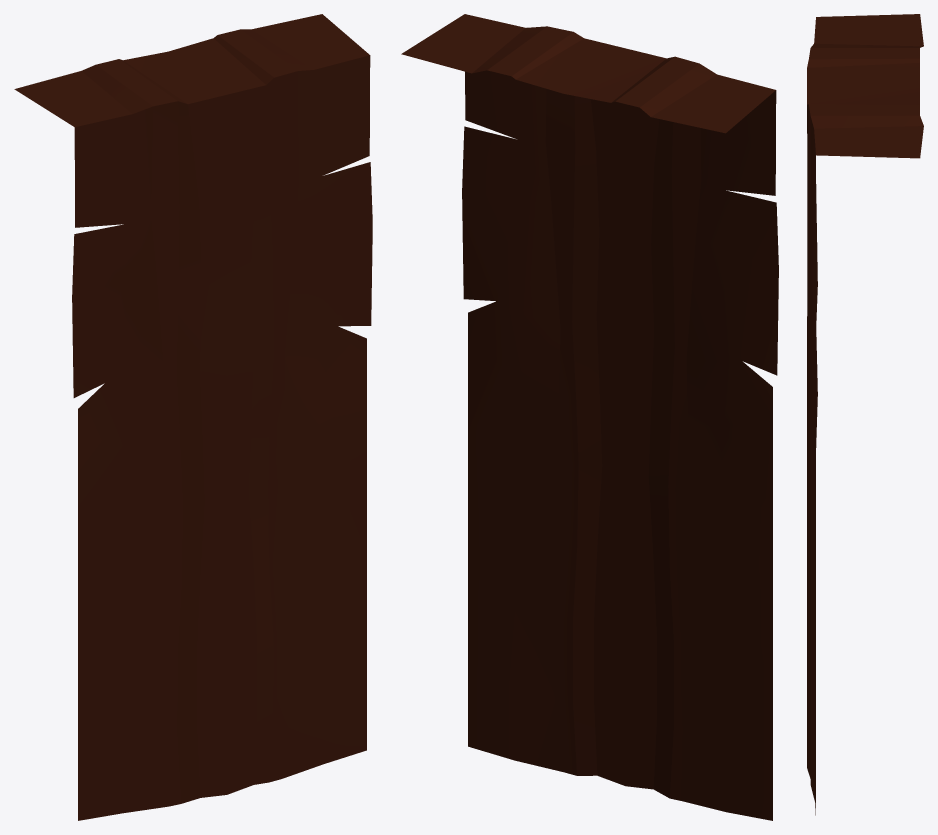
File: Flag_Wall.obj
3 renders of one model, left to right at view 1: azimuth 30°, elevation 25°; view 2: azimuth 150°, elevation 25°; view 3: azimuth 270°, elevation 25°, orthographic. The views are drawn at different scales.
Visible parts, largest first — view 1: Flag_Wall_Cylinder.001; view 2: Flag_Wall_Cylinder.001; view 3: Flag_Wall_Cylinder.001.
Part boxes in pixels (box(x1,y1,x2,y2)): Flag_Wall_Cylinder.001: box(14, 14, 372, 820); Flag_Wall_Cylinder.001: box(401, 14, 778, 820); Flag_Wall_Cylinder.001: box(807, 14, 923, 815).
Bounding box in the file's own units: 0.9235 × 2.02 × 0.316.
